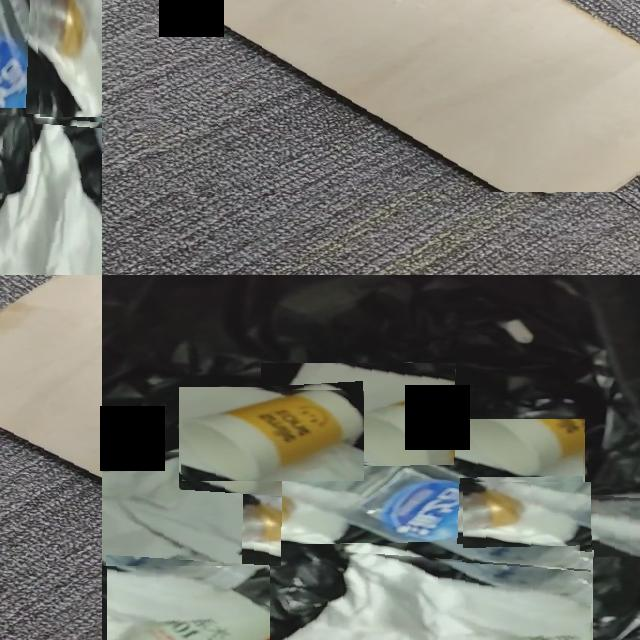bottle: (243, 419, 581, 578), (0, 0, 85, 275), (121, 560, 389, 640), (532, 493, 640, 556)
carton: (182, 0, 640, 192), (0, 275, 102, 476)
dixie_cup: (180, 390, 364, 481)
paper: (286, 552, 592, 640), (102, 452, 282, 563), (262, 363, 455, 463), (0, 117, 102, 275), (463, 482, 591, 547), (38, 0, 102, 117)
